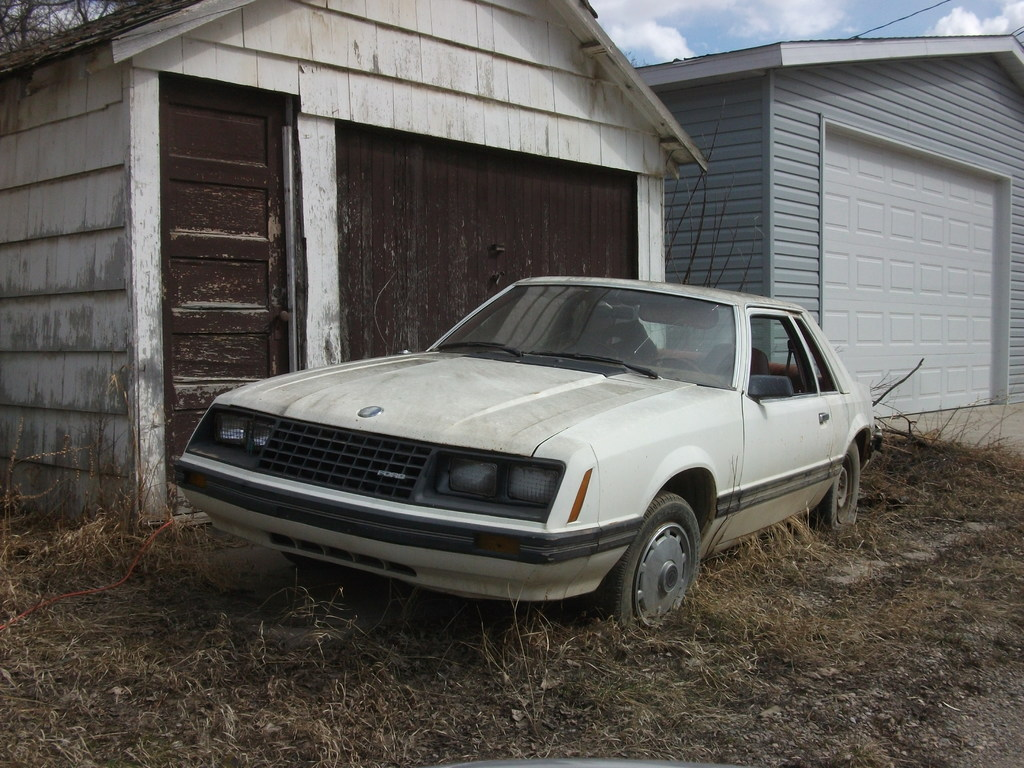Car: (165, 271, 881, 643)
